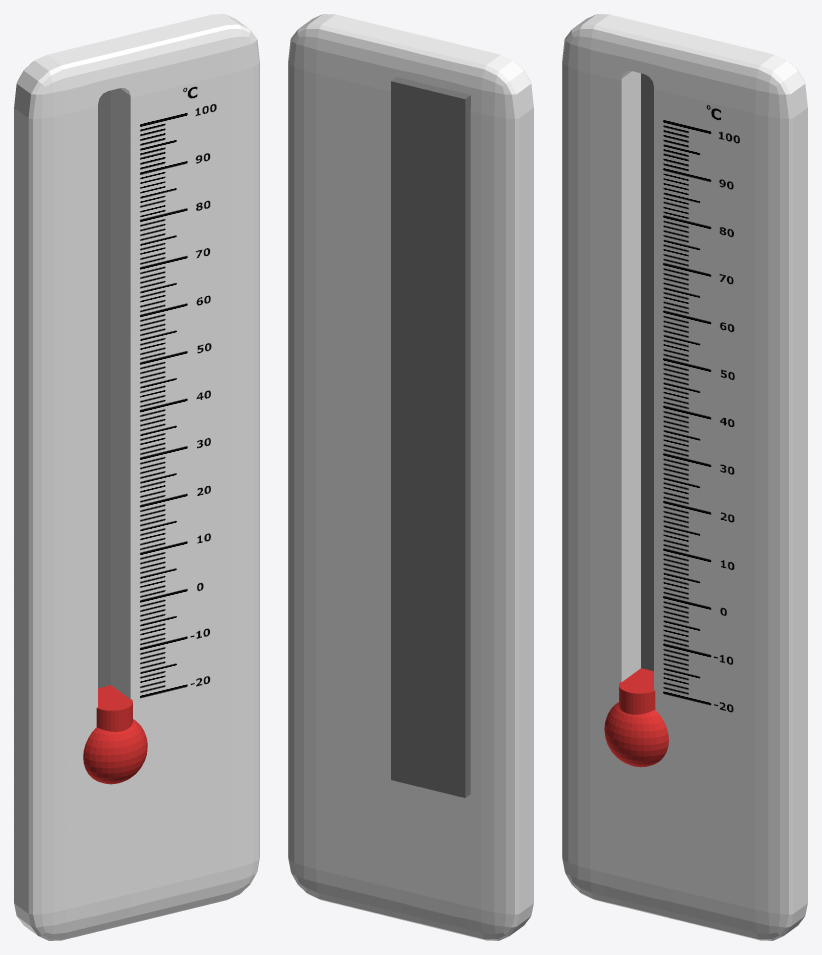
File: thermometer.fbx
3 renders of one model, left to right at view 1: azimuth 30°, elevation 25°; view 2: azimuth 150°, elevation 25°; view 3: azimuth 330°, elevation 25°, orthographic.
Parts seen in each view (by area): view 1: Градусник -20 100, back, point, 1child; view 2: Градусник -20 100, back; view 3: Градусник -20 100, back, point, 1child.
Boxes of the visible parts, x1,y1,x2,y2 form: Градусник -20 100: [14, 14, 259, 940]; back: [98, 90, 110, 688]; point: [83, 719, 147, 784]; 1child: [96, 685, 132, 731]; Градусник -20 100: [288, 14, 533, 940]; back: [391, 77, 470, 797]; Градусник -20 100: [562, 14, 807, 940]; back: [641, 73, 653, 671]; point: [604, 702, 668, 767]; 1child: [619, 668, 655, 714].
Size of the model in its own units: 0.9379 by 3.39 by 0.3076.
Materials: 3 (1 with a texture image).
